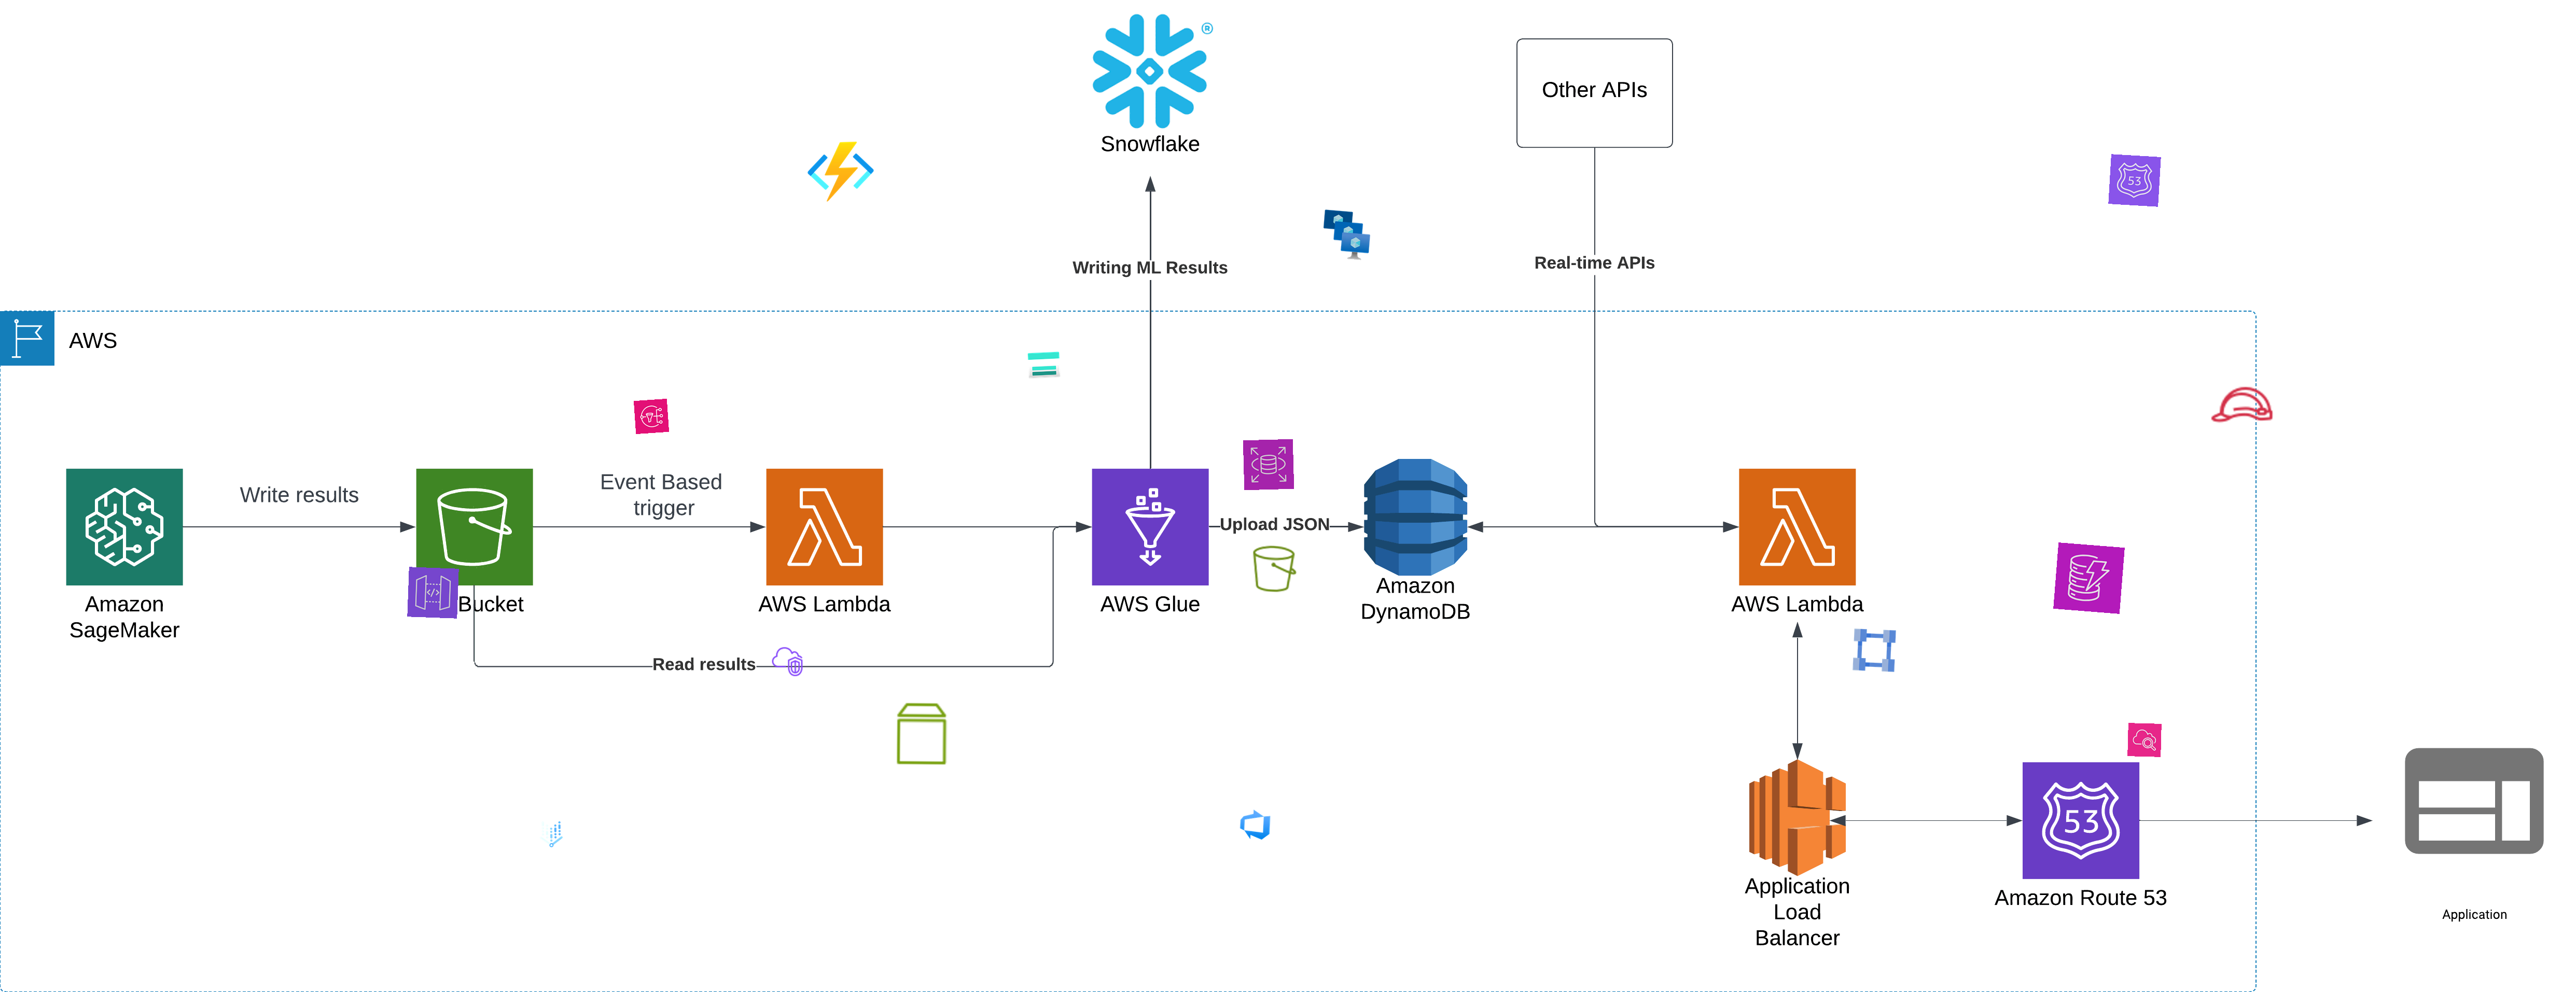aws_amazon_api_gateway: (407, 567, 458, 619)
aws_amazon_cloudwatch: (2127, 723, 2162, 757)
aws_amazon_dynamodb: (2054, 542, 2124, 614)
aws_amazon_rds: (1242, 439, 1295, 491)
aws_amazon_route_53: (2108, 154, 2160, 207)
aws_amazon_simple_notification_service: (632, 397, 670, 435)
aws_elastic_block_store_volume: (889, 700, 956, 767)
aws_identity_access_management_role: (2208, 371, 2275, 439)
aws_simple_storage_service_s3_standard: (1249, 542, 1301, 595)
aws_vpc_virtual_private_cloud_vpc: (771, 644, 805, 678)
azure_devops: (1237, 806, 1273, 843)
azure_function_apps: (807, 136, 876, 207)
azure_storage_accounts: (1027, 348, 1061, 383)
azure_vm_scale_sets: (1319, 207, 1373, 261)
gcp_vertex_ai: (534, 818, 568, 851)
gcp_virtual_private_cloud: (1848, 624, 1901, 677)
